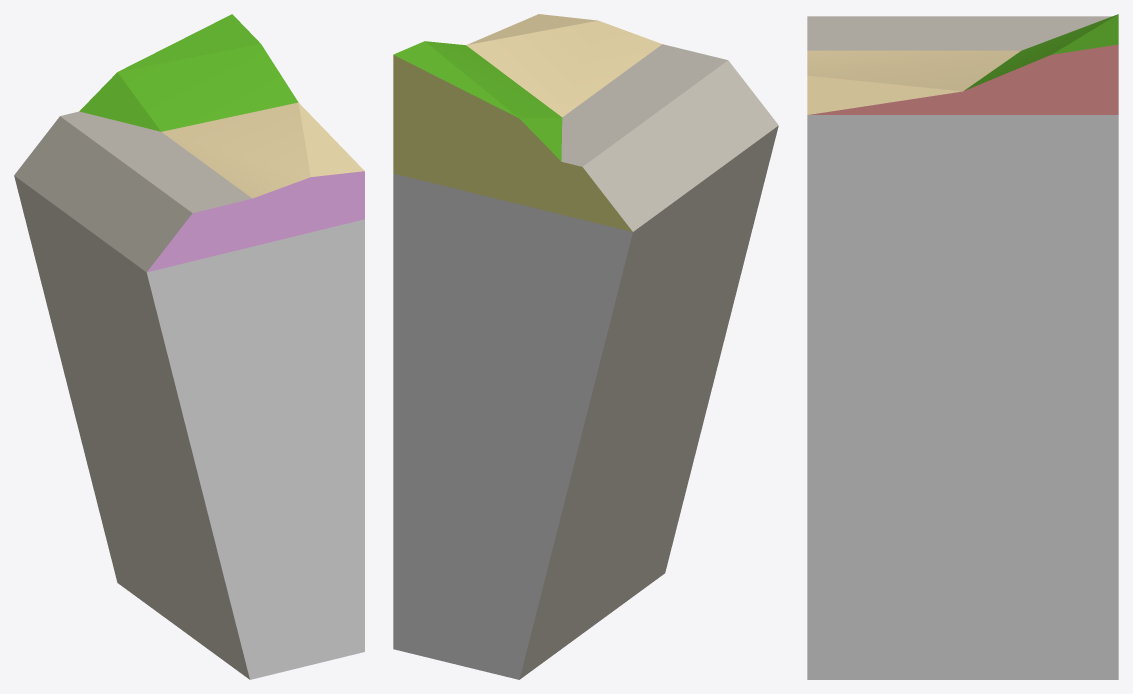
Rendered from Path_End_Edge_Top_1x1.glb.
The picture shows the model from 3 angles, left to right: view 1: azimuth 30°, elevation 25°; view 2: azimuth 150°, elevation 25°; view 3: azimuth 270°, elevation 25°; orthographic projection. The views are drawn at different scales.
Visible parts, largest first — view 1: Path_End_Edge_Top_1x1; view 2: Path_End_Edge_Top_1x1; view 3: Path_End_Edge_Top_1x1.
Part boxes in pixels (x1,y1,x2,y2): Path_End_Edge_Top_1x1: (14,14,364,679); Path_End_Edge_Top_1x1: (393,14,778,679); Path_End_Edge_Top_1x1: (807,14,1118,679).
Bounding box in the file's own units: 95 × 225 × 100.
